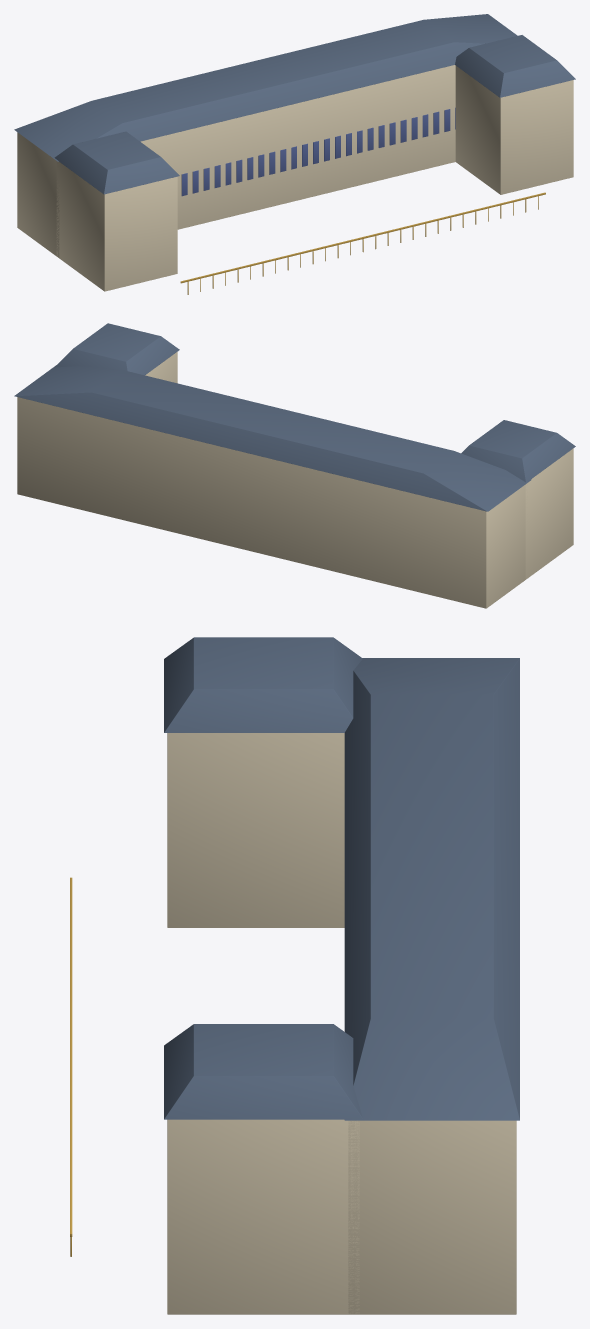
The model's file is marco_versalhes.glb.
3 renders of one model, top to bottom at view 1: azimuth 30°, elevation 25°; view 2: azimuth 150°, elevation 25°; view 3: azimuth 270°, elevation 25°, orthographic. The views are drawn at different scales.
Parts seen in each view (by area): view 1: marco_versalhes; view 2: marco_versalhes; view 3: marco_versalhes.
Boxes of the visible parts, x1=… form: marco_versalhes: x1=14, y1=14, x2=575, y2=294; marco_versalhes: x1=14, y1=323, x2=575, y2=608; marco_versalhes: x1=70, y1=637, x2=519, y2=1314.
Bounding box in the file's own units: 90.98 × 21 × 37.39.
